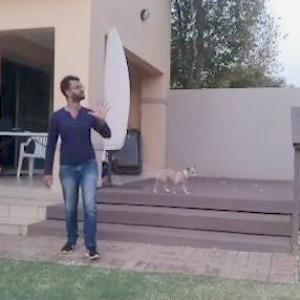follow_hand: (85, 92, 116, 123)
